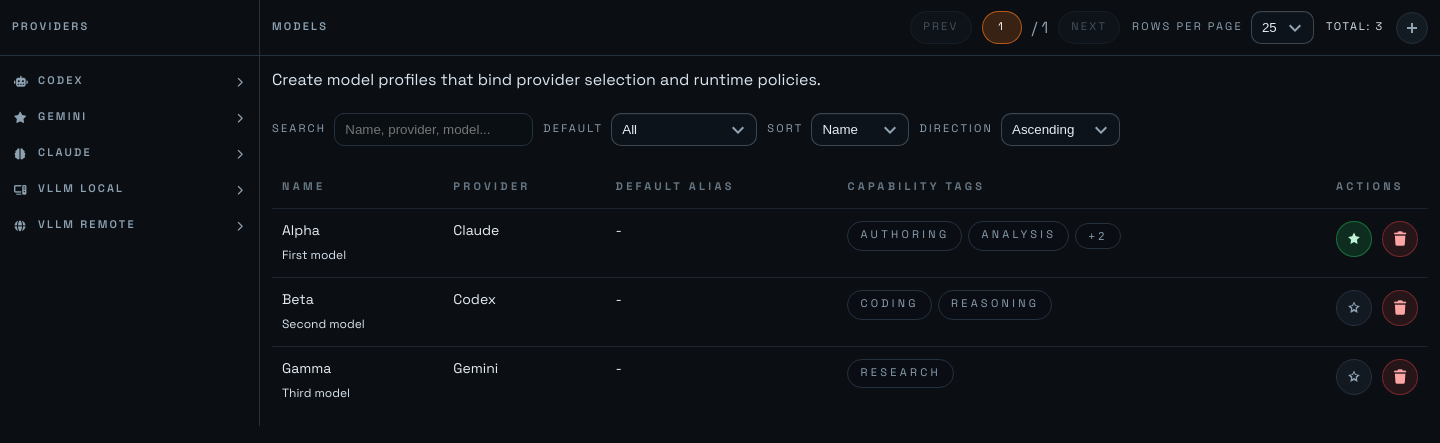
Test: ModelsPage › operation failures report through flash viewport instead of inline error text
The width and height of the screenshot is (1440, 443).
Expected: the link "Alpha" is shown, x1=282 y1=222 x2=320 y2=240
What coordinates should you click on to do the following:
click the button named "Delete model" in the row of "Alpha"
I would click on:
 (1400, 239)
Its box is x1=1382 y1=221 x2=1418 y2=257.
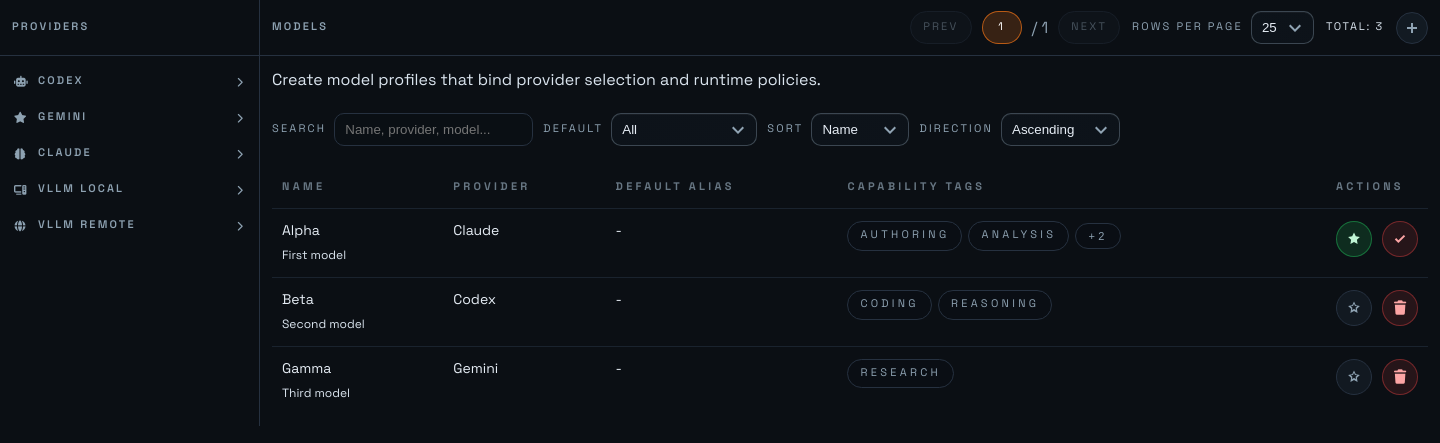
What coordinates should you click on to do the following:
click the button named "Confirm delete model"
I would click on:
 (1400, 239)
Its box is x1=1382 y1=221 x2=1418 y2=257.
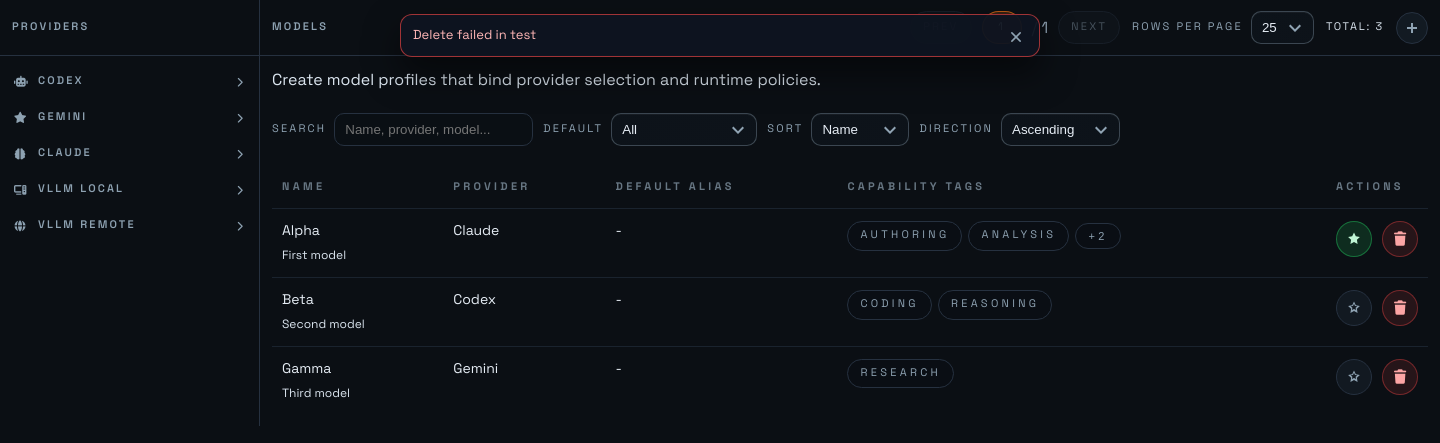
Expected: the number of buttons named "Delete model" is 3, x1=1382 y1=221 x2=1418 y2=257; x1=1382 y1=290 x2=1418 y2=326; x1=1382 y1=358 x2=1418 y2=394
Now the text "Delete failed in test" is shown, box x1=413 y1=26 x2=536 y2=43
